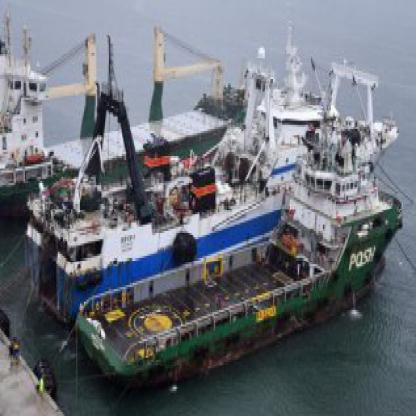fish-b: (72, 100, 411, 393), (18, 34, 332, 324)
